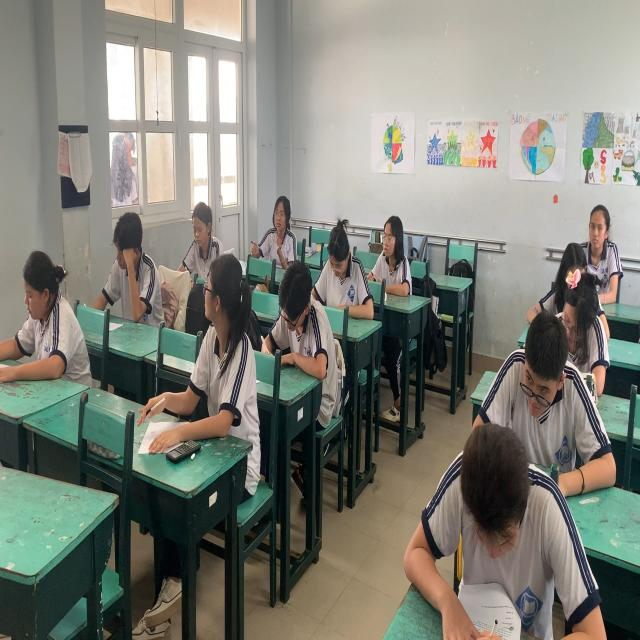cheating: (187, 247, 255, 440)
not_cheating: (401, 423, 591, 640), (488, 319, 619, 493), (543, 247, 609, 395), (5, 243, 72, 381), (94, 209, 162, 326), (275, 261, 339, 385), (319, 222, 378, 326), (576, 199, 623, 309), (364, 215, 417, 302), (249, 196, 298, 264), (183, 205, 226, 254)
